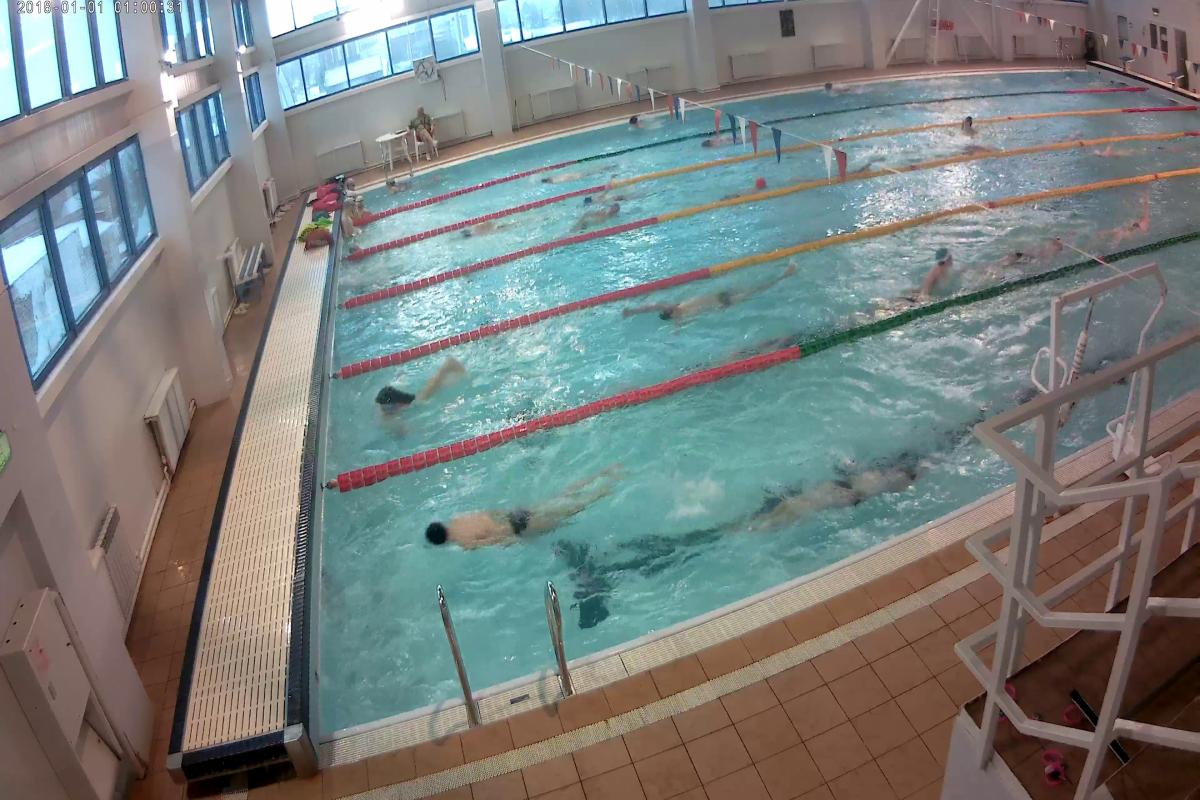swimmer: (422, 473, 616, 551), (626, 265, 801, 328), (762, 459, 914, 530), (364, 356, 464, 434), (882, 251, 959, 310), (1100, 200, 1164, 245), (573, 200, 631, 230)
